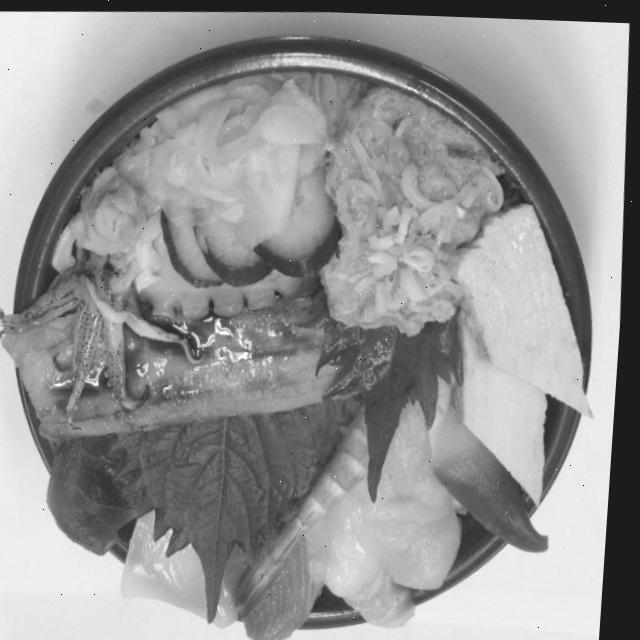刺身生食: (0, 12, 628, 640)
